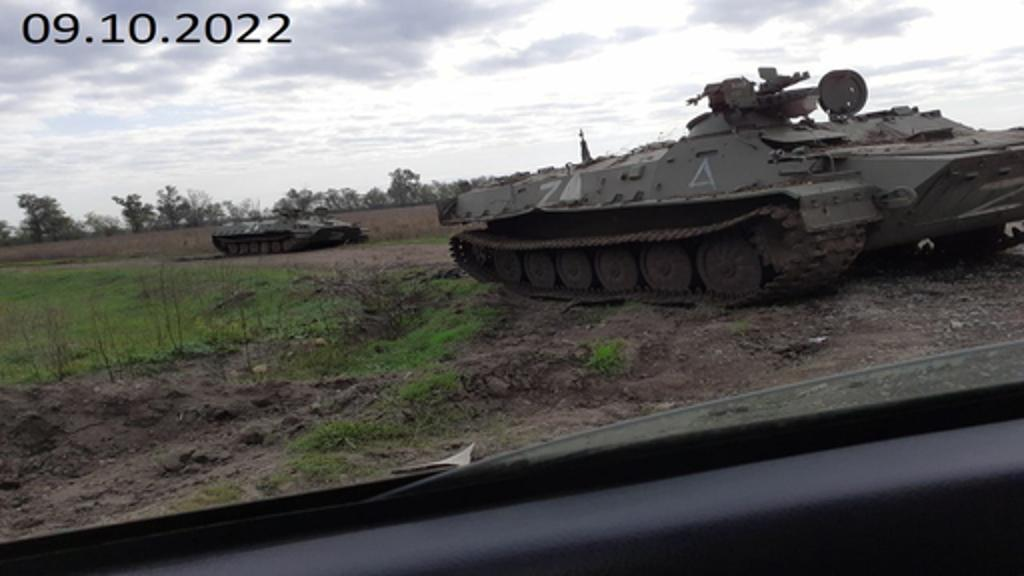APC-IFV: (430, 86, 1022, 306), (202, 194, 372, 262)
